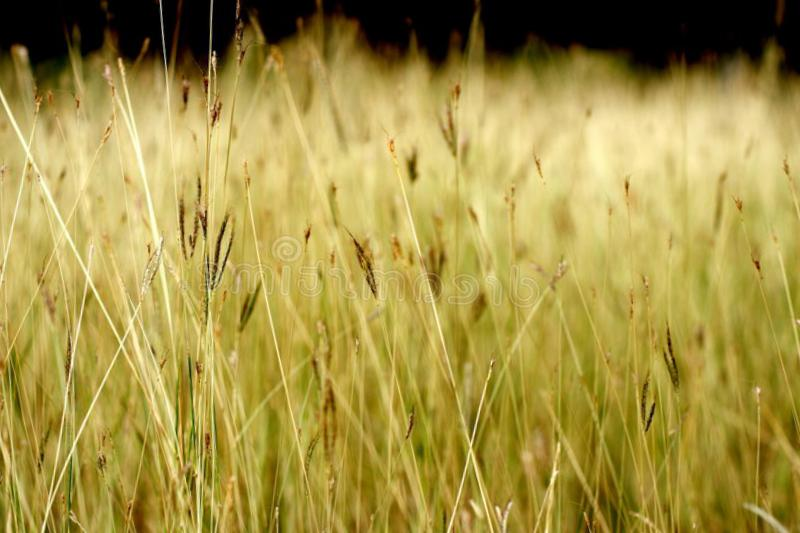patch: (290, 132, 367, 174)
